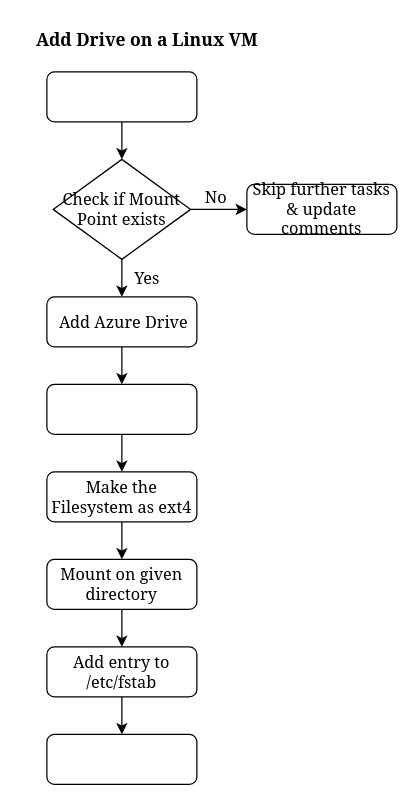
The diagram is 419 pixels wide and 806 high, and some of its shapes have lost their labels. The box of each missing label's shape, as (x1, y1, x2, y2) in pixels:
Login to Azure: (46, 71, 197, 122)
Make Partition on Drive: (46, 383, 197, 434)
Update Comments: (46, 733, 197, 784)
